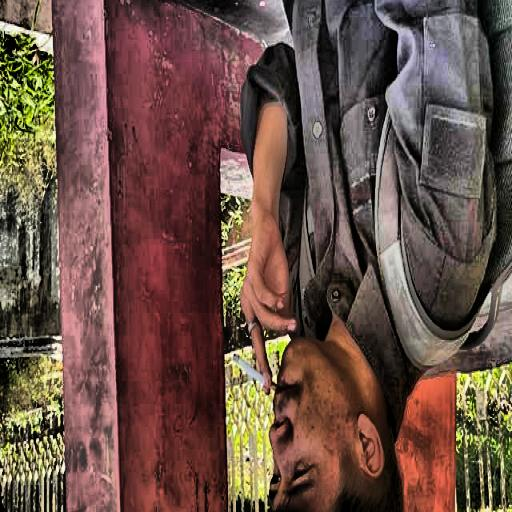Merokok: (232, 356, 262, 385)
Rokok: (235, 112, 386, 512)
